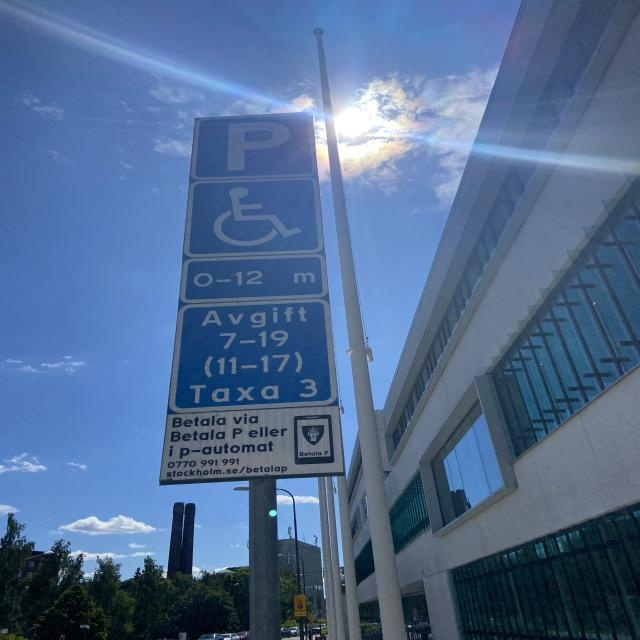P-skylt: (188, 111, 320, 182)
